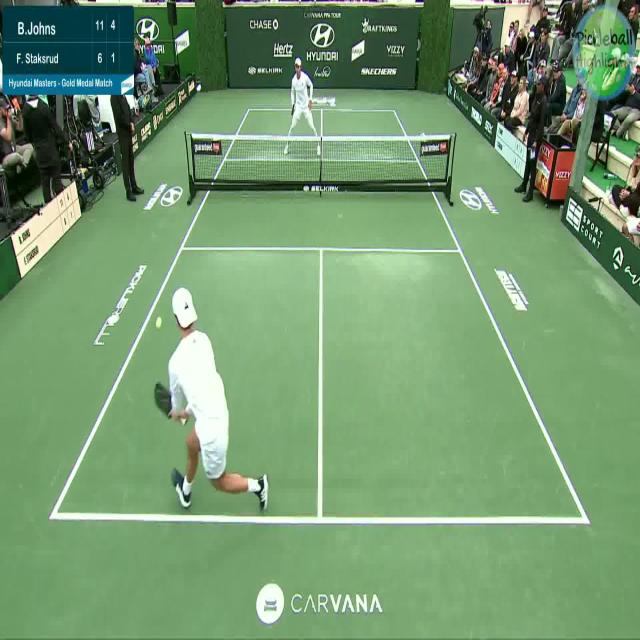ball: (153, 314, 161, 326)
